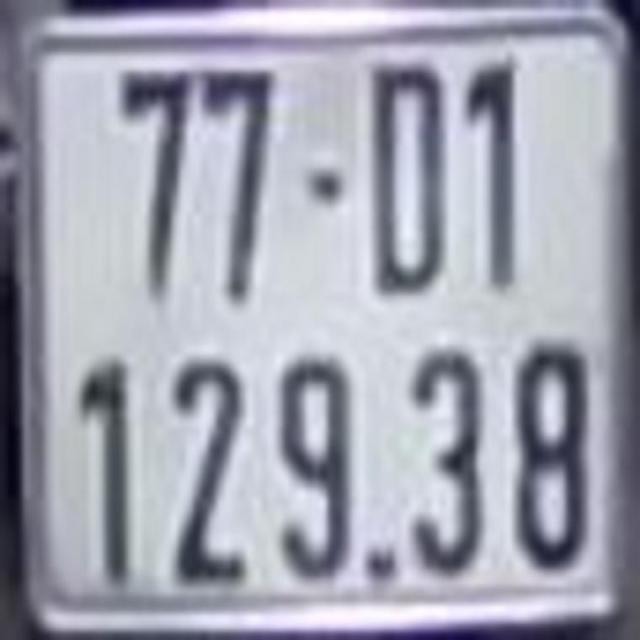1: (457, 52, 532, 290), (78, 346, 150, 589)
2: (170, 346, 250, 584)
3: (410, 334, 487, 576)
7: (202, 54, 279, 302), (118, 64, 196, 302)
8: (508, 334, 592, 572)
9: (274, 343, 354, 580)
D: (368, 56, 446, 300)
